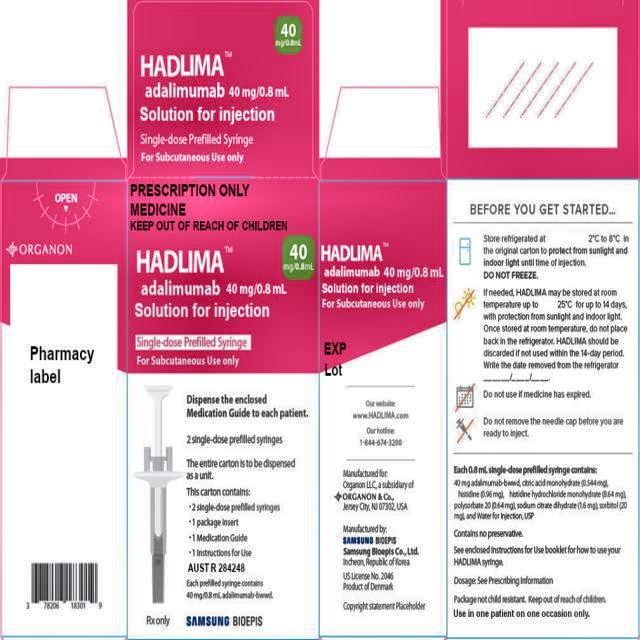Artwork: (0, 0, 640, 640)
Back_Panel: (447, 178, 638, 640)
Extra_Areas: (445, 0, 639, 180), (3, 82, 128, 181), (323, 84, 445, 180)
Front_Panel: (128, 180, 319, 640)
Side_Panel: (320, 180, 448, 639), (0, 181, 127, 637)
Top_Panel: (134, 0, 320, 180)
